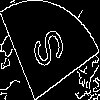S: (24, 24, 68, 77)
